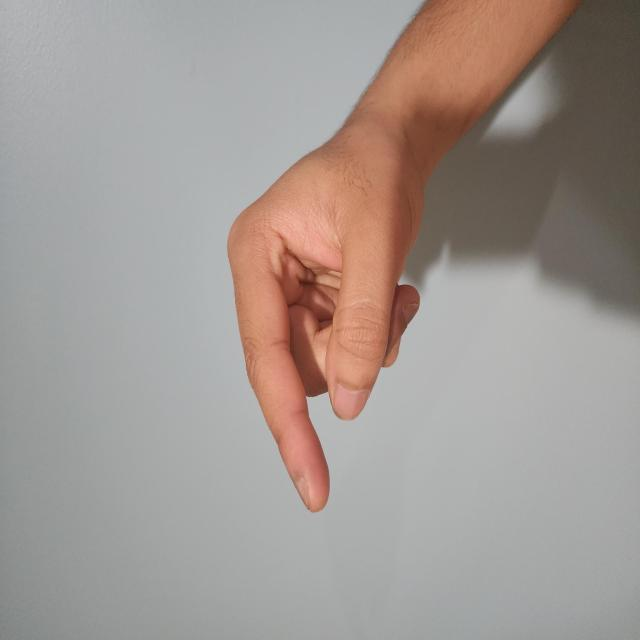Z: (91, 297, 410, 568)
